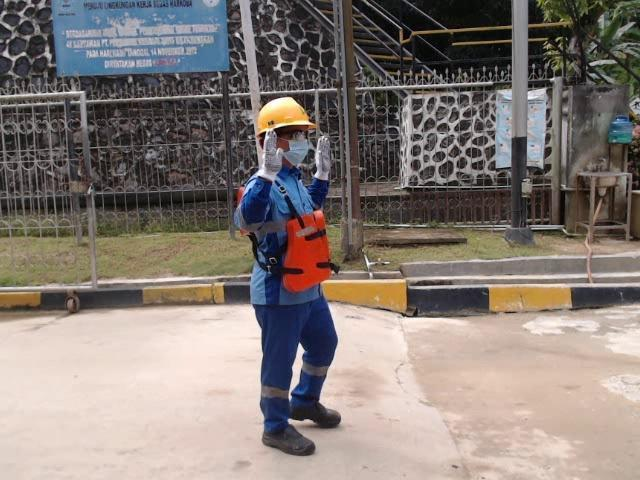vest: (282, 206, 337, 293)
